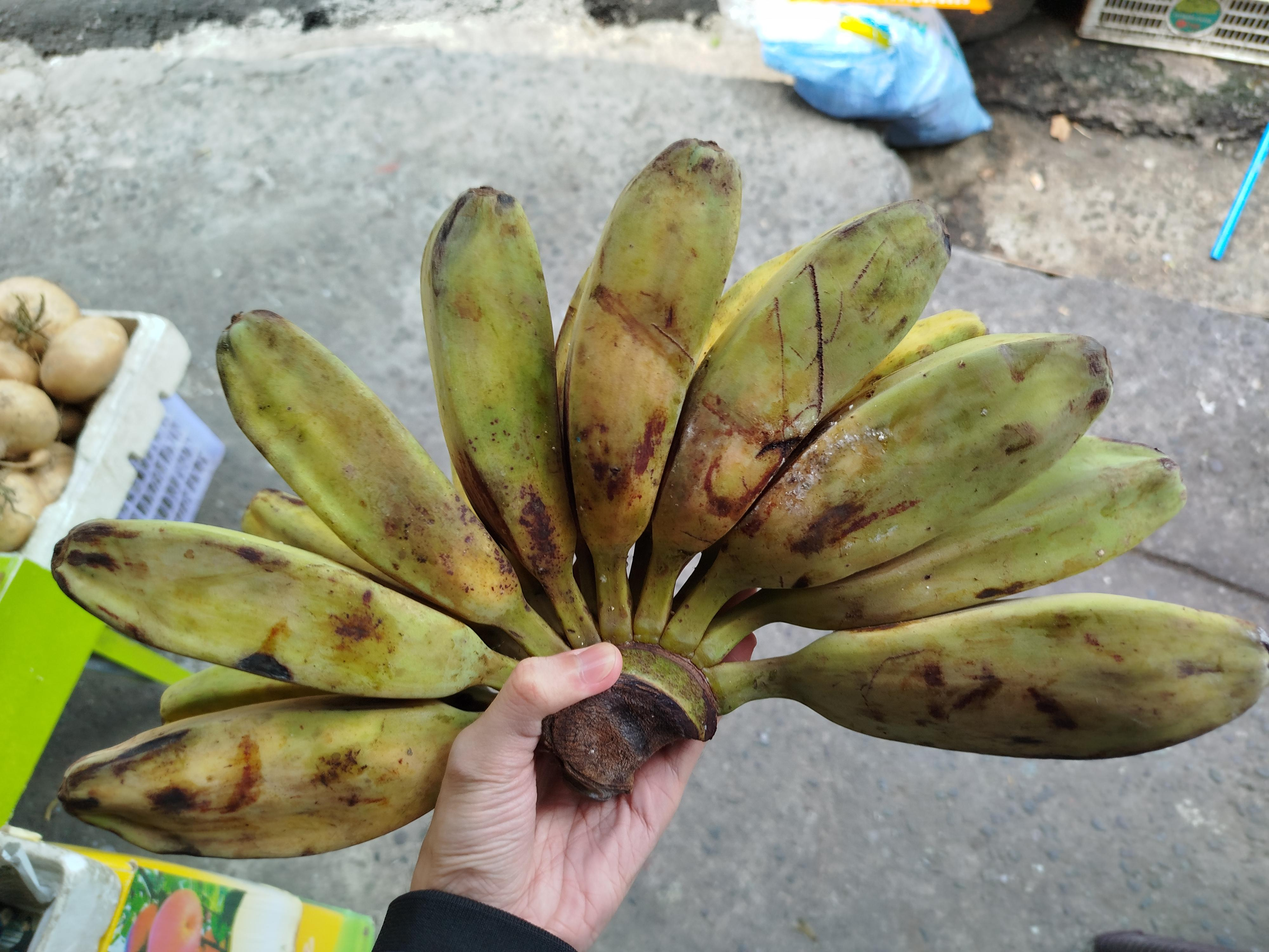underripe: (51, 136, 1269, 855)
